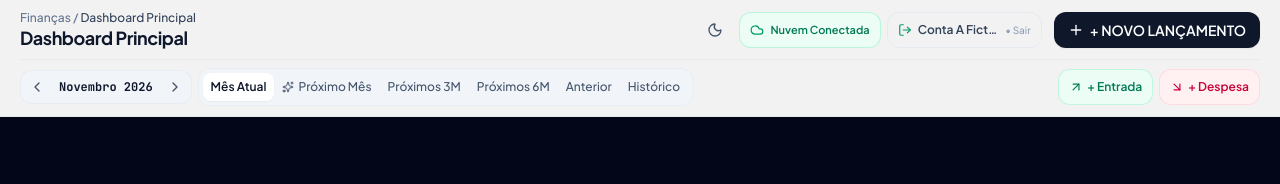
MVP Express — Correção dos 3 Bloqueadores (100% mocks e dados fictícios) › 6. Botão do cabeçalho verifica a nuvem e NÃO sobrescreve dados remotos mais recentes
Click the button "Nuvem Conectada" at (810, 30), box [740,12,881,48]
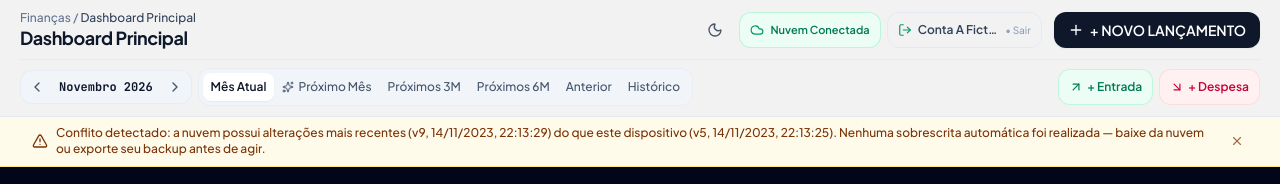
Check: the message is shown, box [0,117,1279,167]
Check: the message shows "Conflito detectado", box [56,125,1204,156]
Check: the message shows "v9", box [56,125,1204,156]
